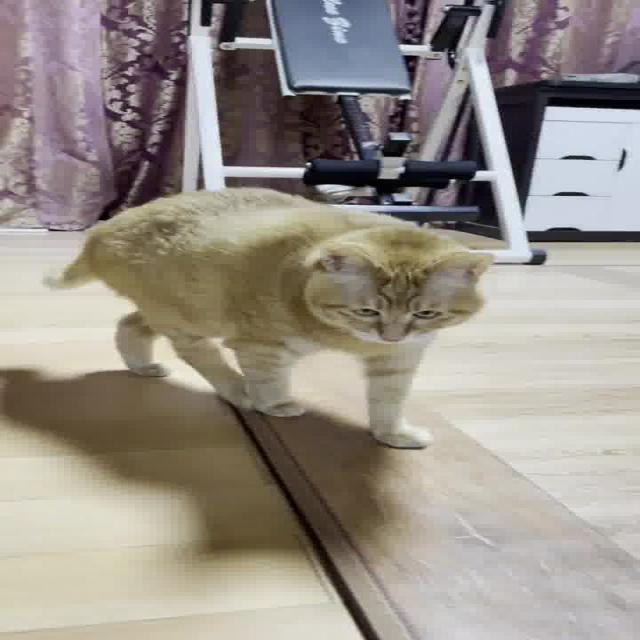cat: (25, 162, 572, 469)
